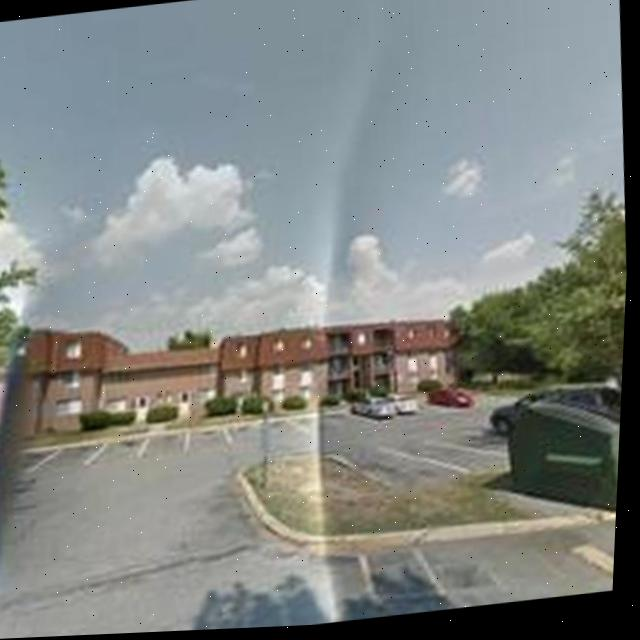building: (0, 277, 468, 443)
